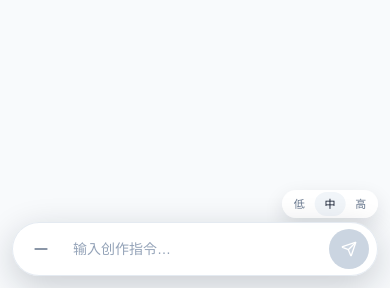
Test: AppFloatingComposer › shows the token count for each session including missing usage
Click the button named "会话列表" at [41, 249], box [21,229,61,269]
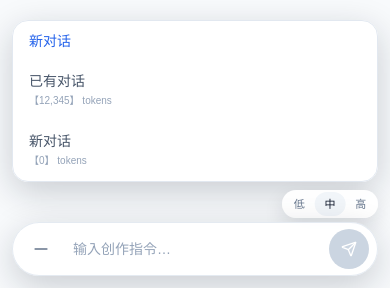
Check: the text "【12,345】 tokens" is shown, box [29,95,112,106]
Check: the text "【0】 tokens" is shown, box [29,155,87,166]
